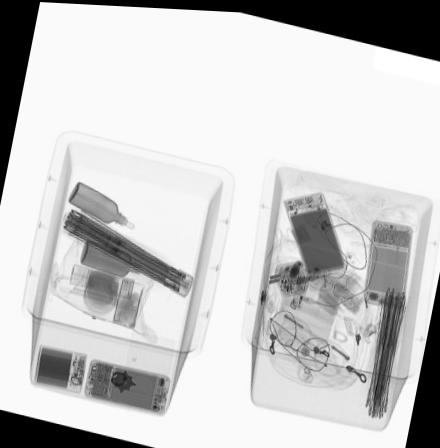Lighter: (287, 270, 310, 310)
